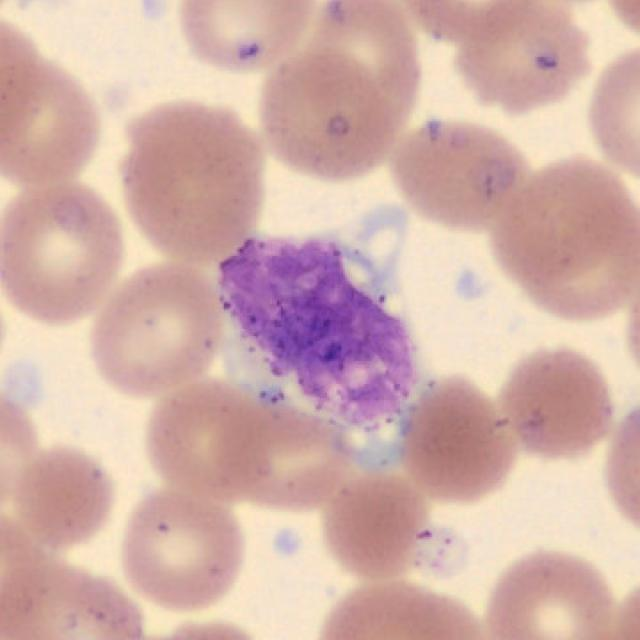Linfocito: (212, 203, 423, 473)
